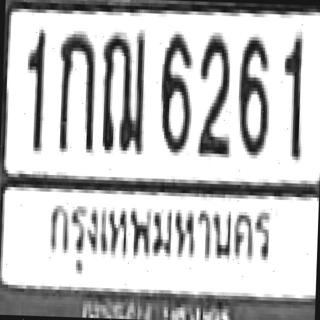A01: (55, 30, 94, 149)
A12: (98, 28, 145, 151)
N01: (280, 31, 302, 156), (23, 27, 45, 149)
N02: (196, 32, 231, 154)
N06: (235, 33, 270, 152), (158, 30, 192, 149)
P04: (40, 192, 277, 284)
